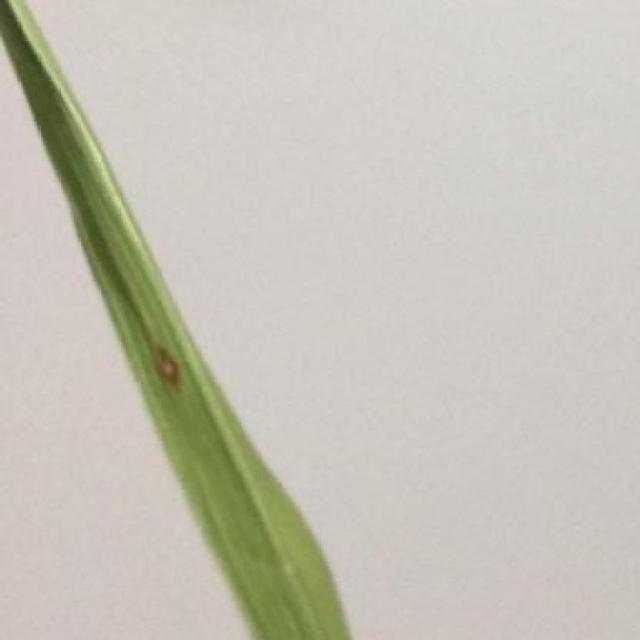Bacterial_Leaf_Blight: (144, 315, 185, 393)
